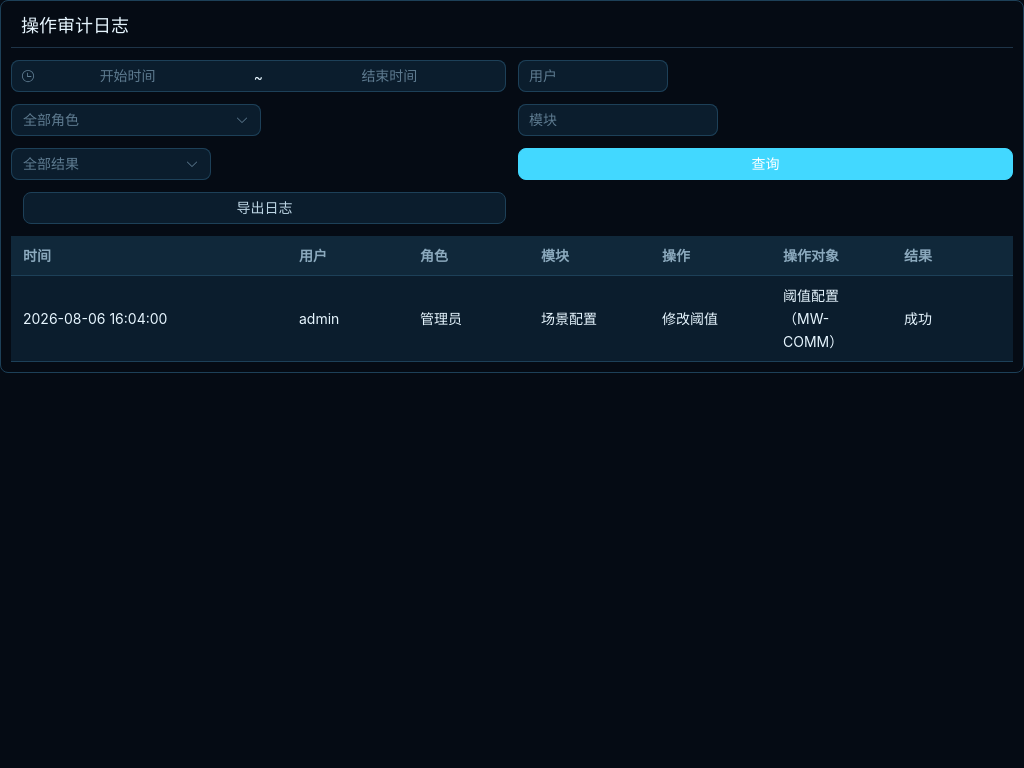
Test: AuditLog › downloads confirmed HTTP contents unless the panel has left (left=false)
Click the button "导出日志" at (264, 208), box [23, 192, 506, 224]
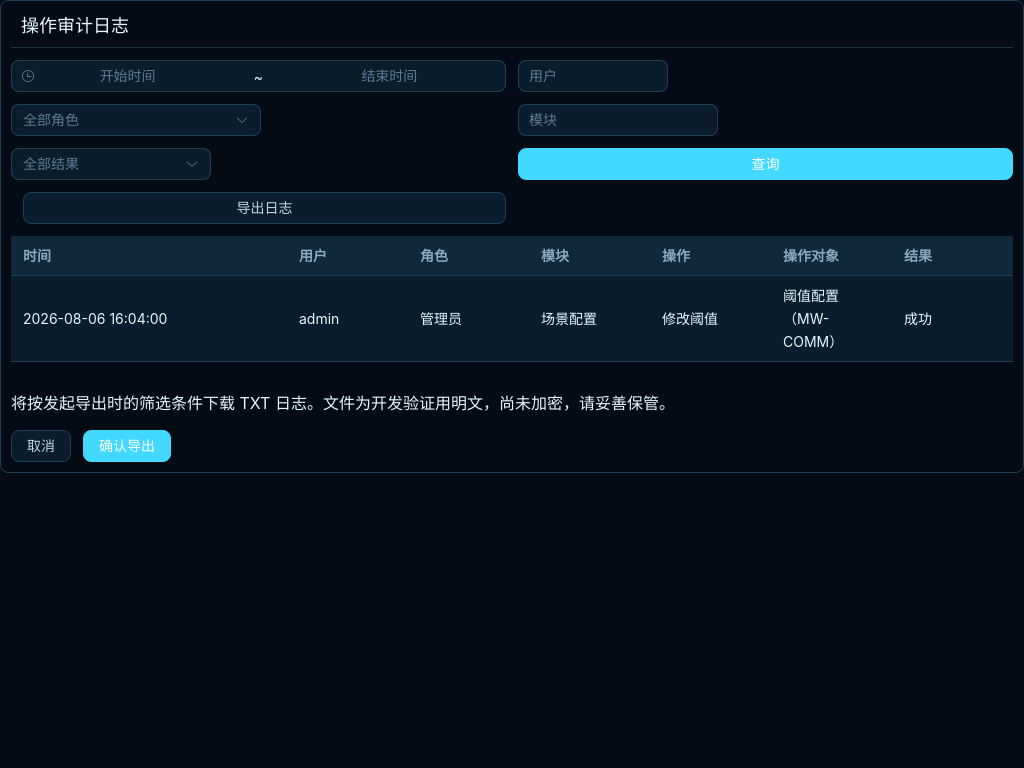
Check: the text "尚未加密" is shown, box [11, 393, 675, 413]
Click the button with test id "confirm-audit-export" at (127, 446), box [83, 430, 171, 462]
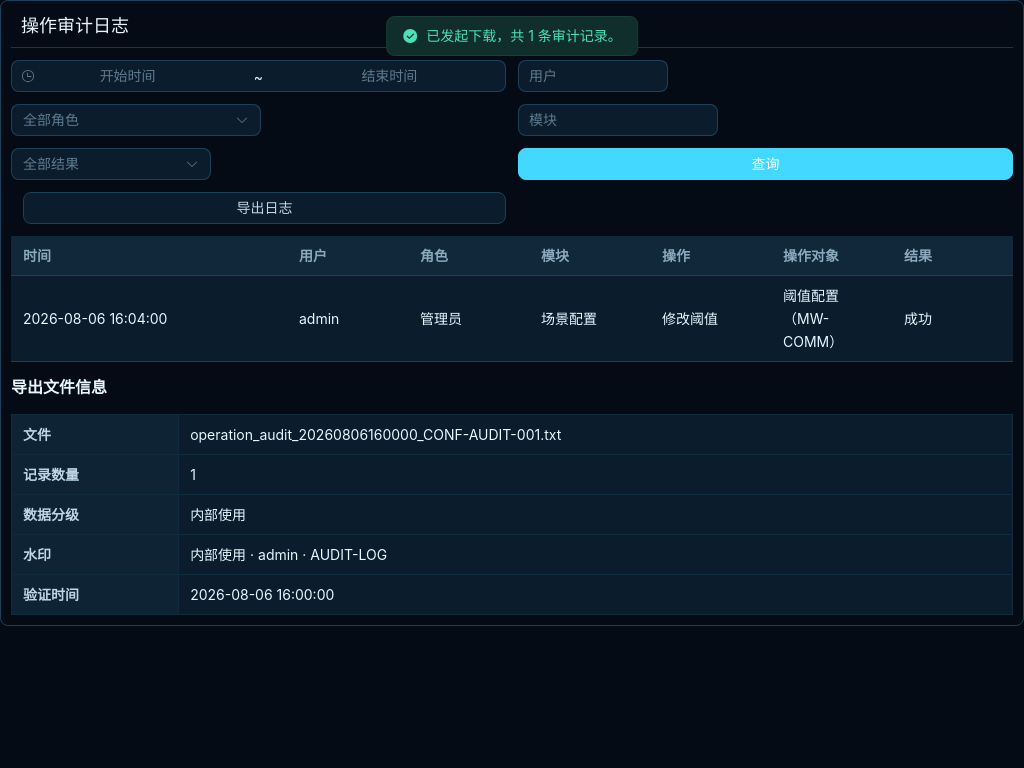
Check: the cell "operation_audit_20260806160000_CONF-AUDIT-001.txt" is shown, box [179, 414, 1012, 454]
Check: the element with test id "audit-export-status" shows "operation_audit_20260806160000_CONF-AUDIT-001.txt", box [190, 426, 561, 443]
